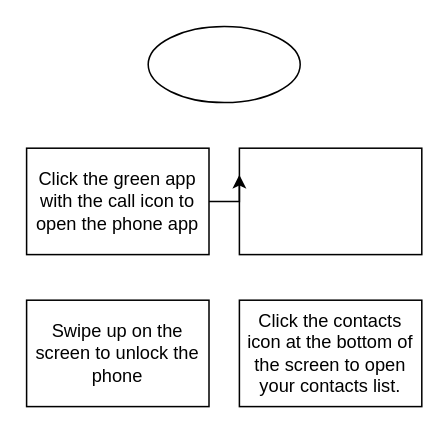
This 448x433 diagram has some shape labels left out. The shapes that lost their labels are listed below. From the top down, each one's centre as x and y in pixels, then its label:
At [223,64]: "Start".
At [330,201]: "Press the single button on the side of your phone".
